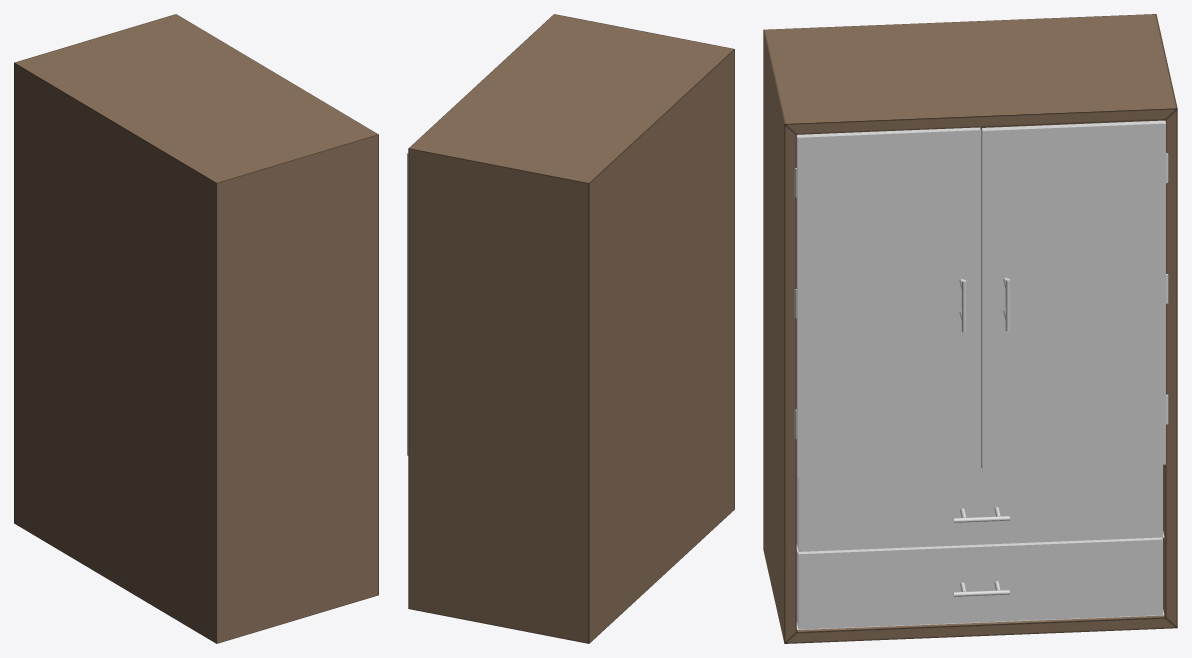
The model's file is cabinet 2.fbx.
3 views of the same model, side by side, from view 1: azimuth 30°, elevation 25°; view 2: azimuth 150°, elevation 25°; view 3: azimuth 270°, elevation 25° (orthographic). The views are drawn at different scales.
Parts seen in each view (by area): view 1: Cabinet_Skeleton; view 2: Cabinet_Skeleton, RightHingeDoor; view 3: Cabinet_Skeleton, LeftHingeDoor, RightHingeDoor, SlidingDrawer, SlidingDrawer.001.
Part boxes in pixels (left/top/right/bottom): Cabinet_Skeleton: left=14, top=14, right=378, bottom=643; Cabinet_Skeleton: left=408, top=14, right=734, bottom=643; RightHingeDoor: left=407, top=152, right=408, bottom=455; Cabinet_Skeleton: left=763, top=14, right=1177, bottom=643; LeftHingeDoor: left=796, top=127, right=981, bottom=478; RightHingeDoor: left=982, top=120, right=1165, bottom=471; SlidingDrawer: left=796, top=537, right=1164, bottom=629; SlidingDrawer.001: left=796, top=464, right=1164, bottom=552.
Bounding box in the file's own units: 245 × 511 × 369.
